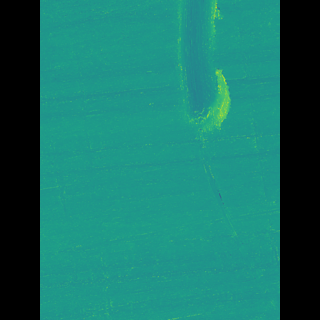Loch: (185, 132, 249, 312), (168, 0, 214, 136)
